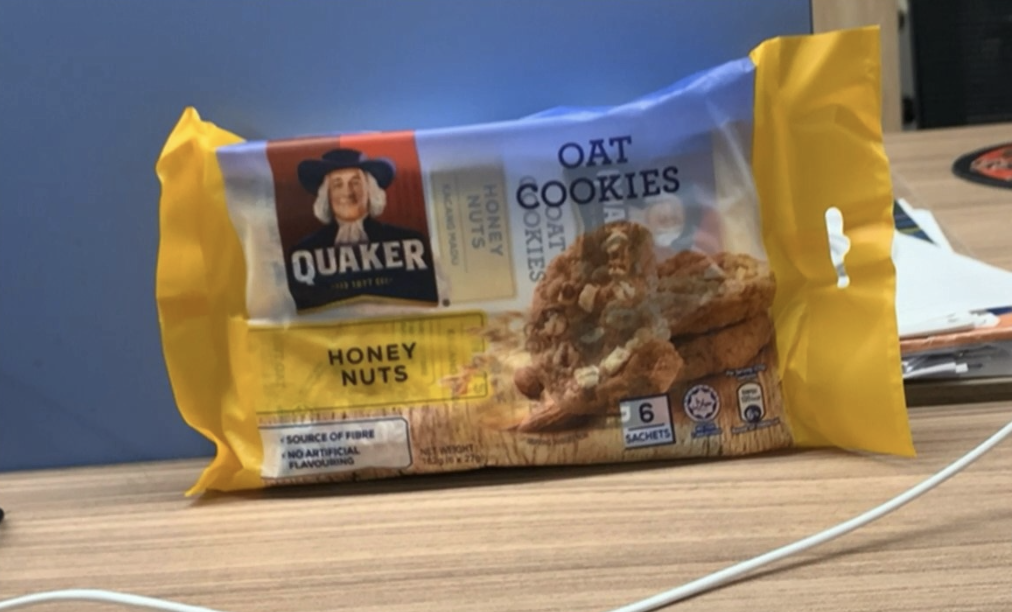cookies_150g: (273, 158, 785, 436)
